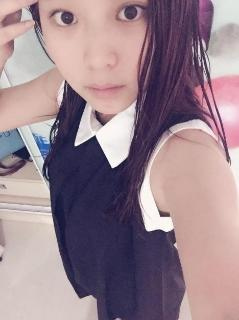short sleeve dress: (47, 66, 220, 319)
